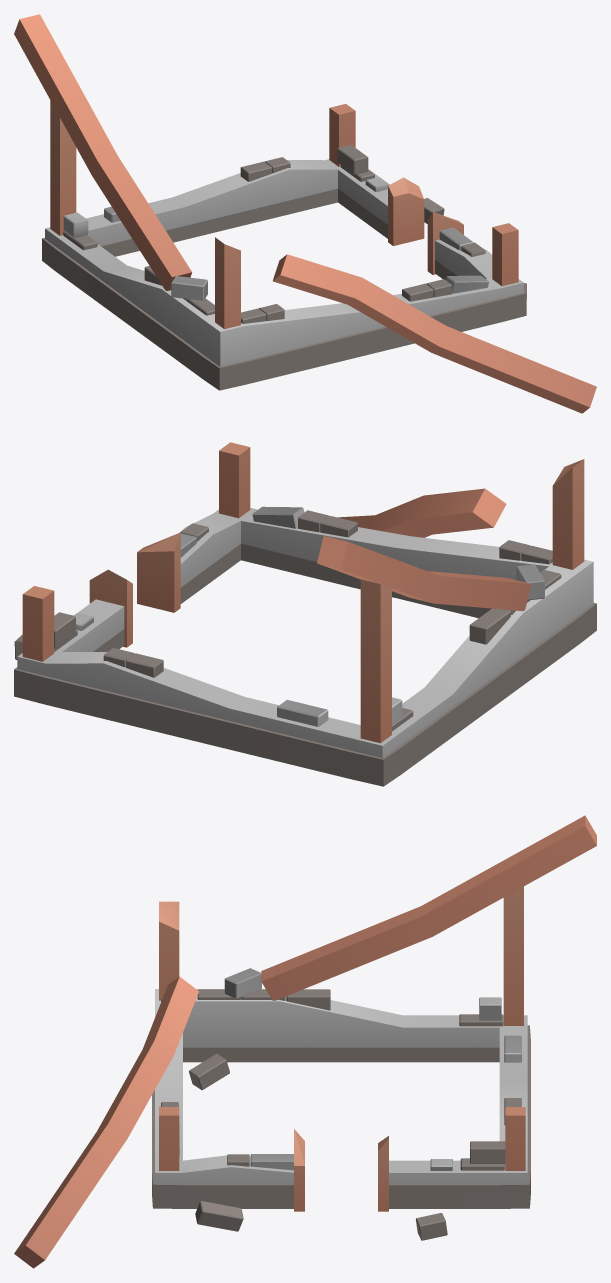
The model's file is [OBJ]Ruina_Casa.fbx.
3 renders of one model, top to bottom at view 1: azimuth 30°, elevation 25°; view 2: azimuth 150°, elevation 25°; view 3: azimuth 270°, elevation 25°, orthographic. The views are drawn at different scales.
Visible parts, largest first — view 1: [OBJ]Ruina_Casa; view 2: [OBJ]Ruina_Casa; view 3: [OBJ]Ruina_Casa.
Boxes of the visible parts, x1,y1,x2,y2 form: [OBJ]Ruina_Casa: (14,14,596,413); [OBJ]Ruina_Casa: (14,442,596,786); [OBJ]Ruina_Casa: (14,815,596,1268).
Bounding box in the file's own units: 233 × 175 × 313.
